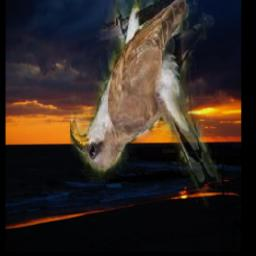Cuckoo: (69, 0, 234, 231)
